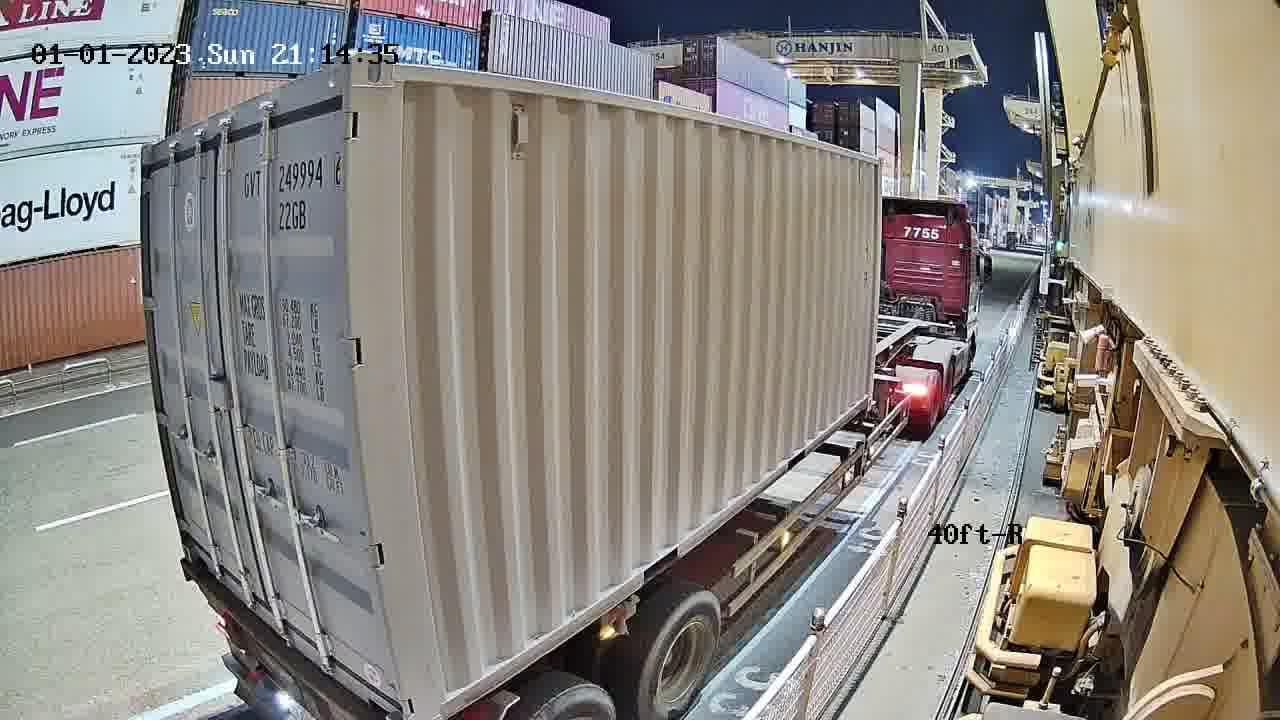Chassis: (184, 567, 376, 719)
Hole_L: (174, 520, 213, 578)
Tire: (644, 590, 723, 719), (533, 683, 620, 714)
